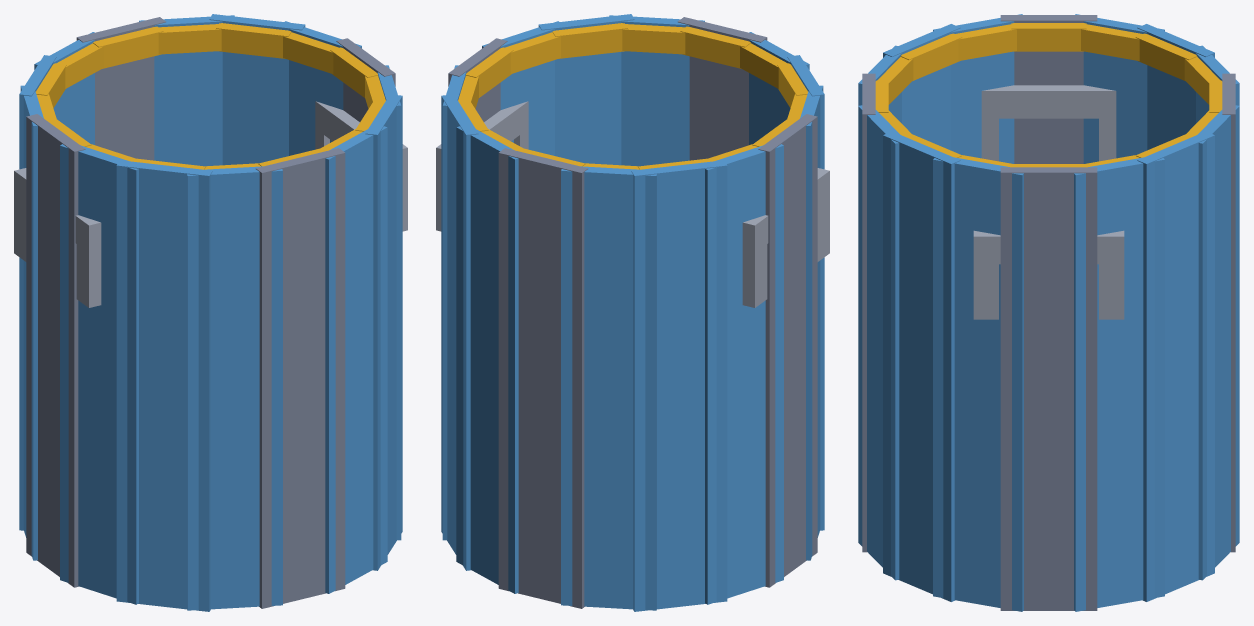
The model's file is bucket.glb.
3 views of the same model, side by side, from view 1: azimuth 30°, elevation 25°; view 2: azimuth 150°, elevation 25°; view 3: azimuth 270°, elevation 25° (orthographic).
Parts seen in each view (by area): view 1: bucket; view 2: bucket; view 3: bucket.
Boxes of the visible parts, x1,y1,x2,y2 form: bucket: (14, 14, 407, 611); bucket: (436, 14, 829, 611); bucket: (858, 14, 1239, 611).
Size of the model in its own units: 0.75 by 0.95 by 0.75.
